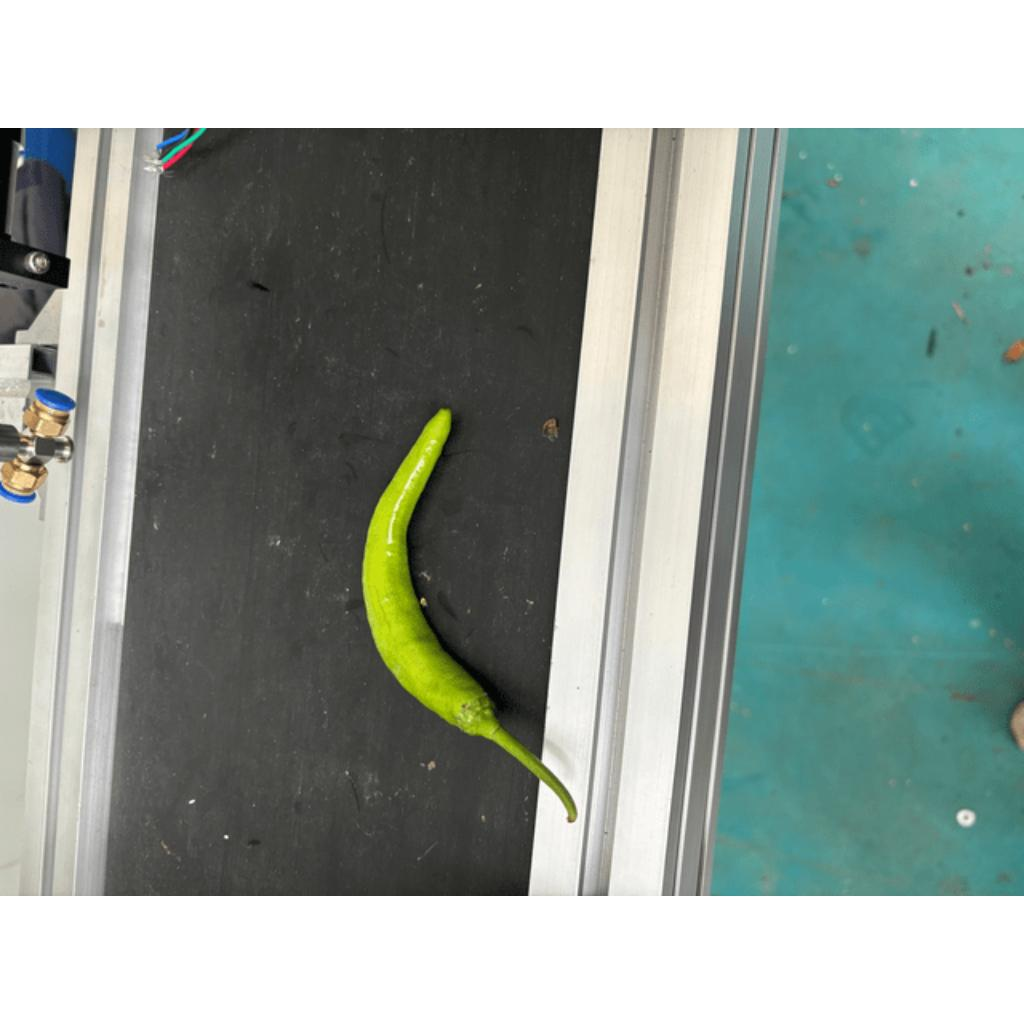chili: (360, 401, 498, 740)
